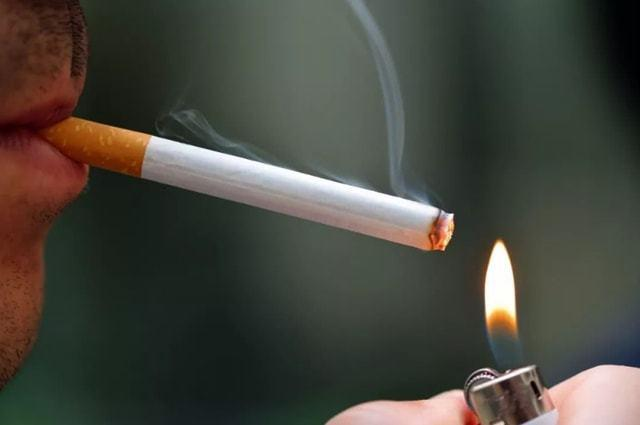Smoking: (34, 110, 456, 254)
